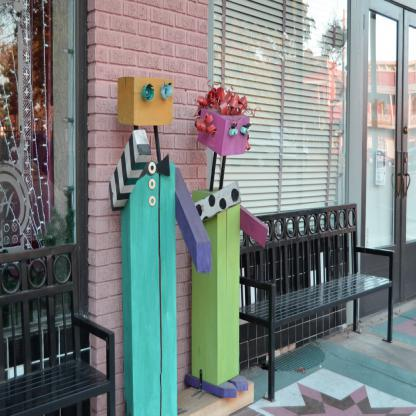door: (358, 0, 401, 321), (401, 2, 415, 309)
